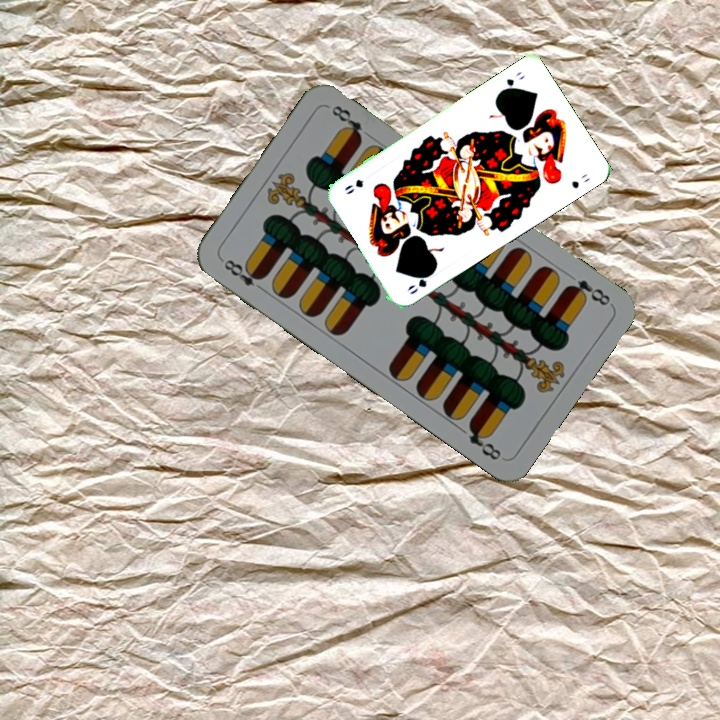E8: (217, 255, 268, 295), (562, 275, 613, 309)
GO: (495, 67, 528, 96), (403, 269, 435, 297)
